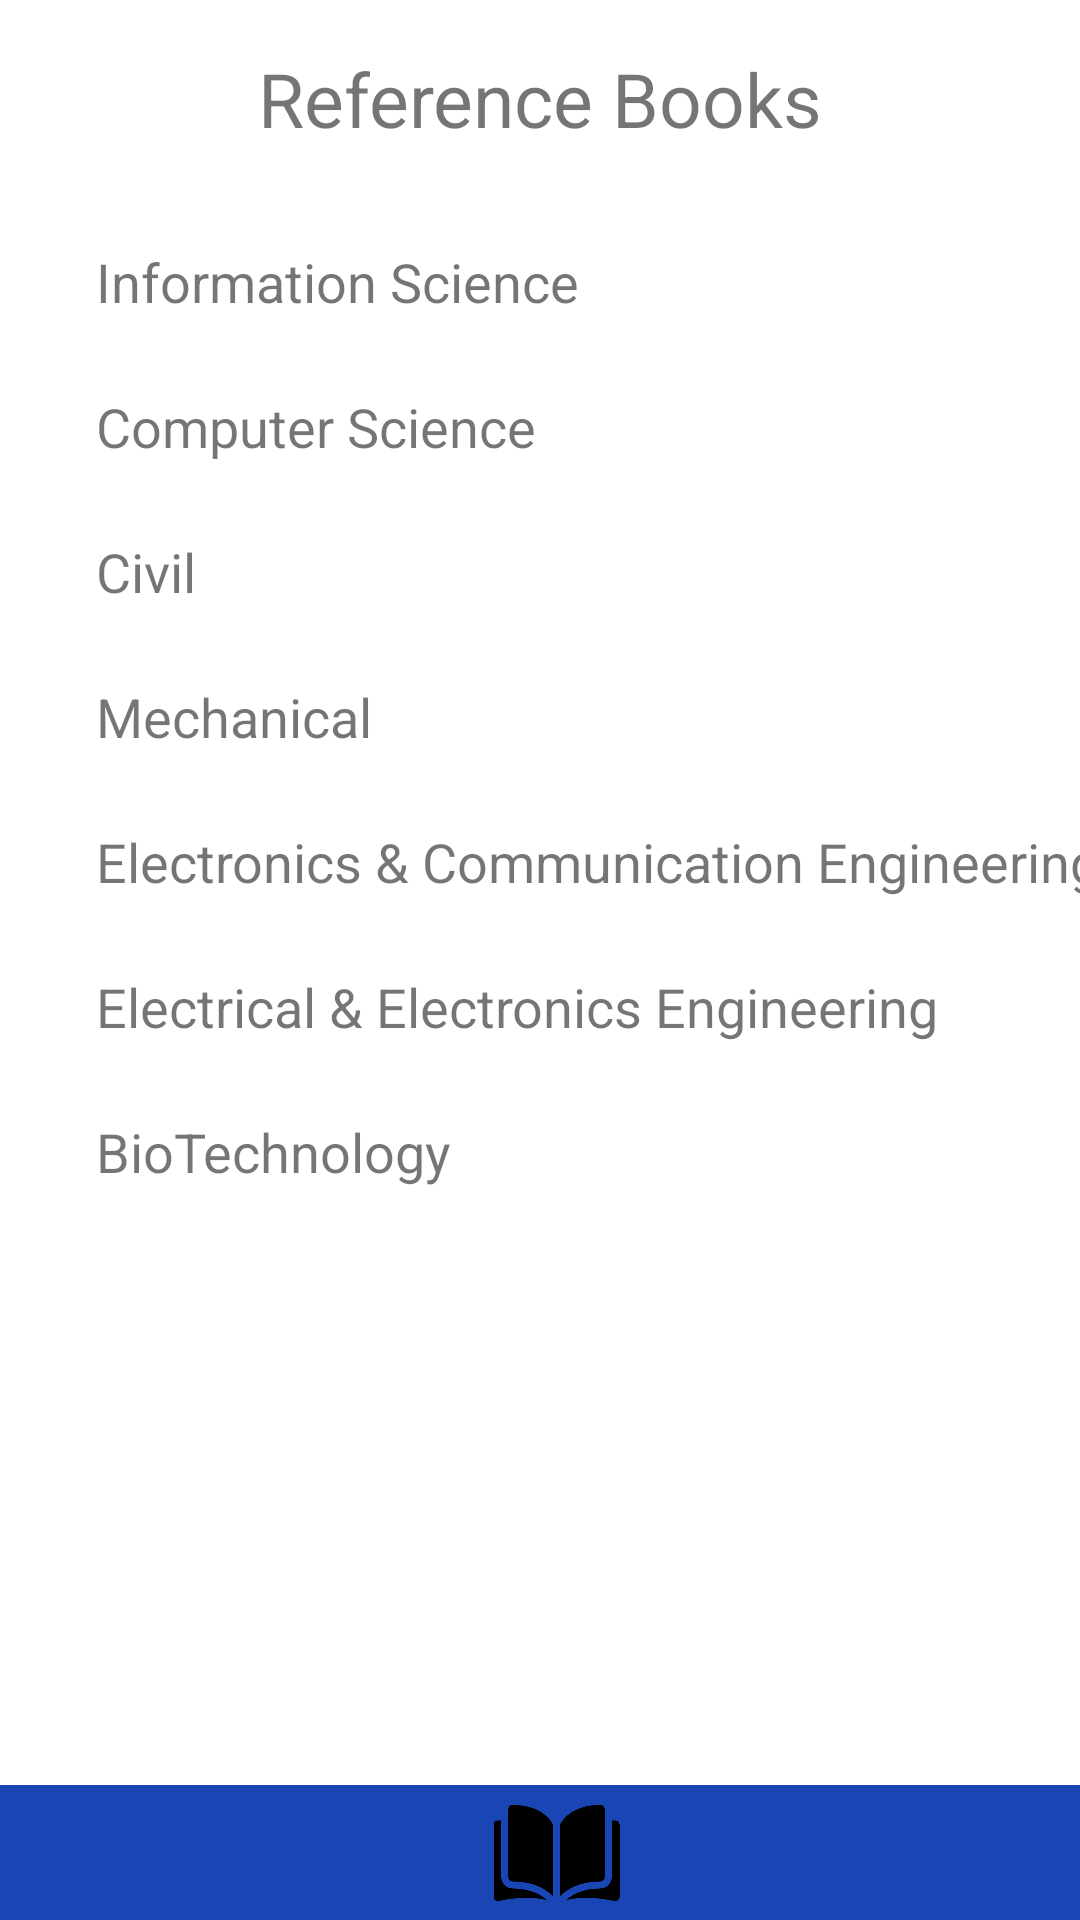

Screen size 1080×1920. Icon name, then its box in pixels as (x1, y1, x2, y2):
book: (494, 1805, 620, 1901)
